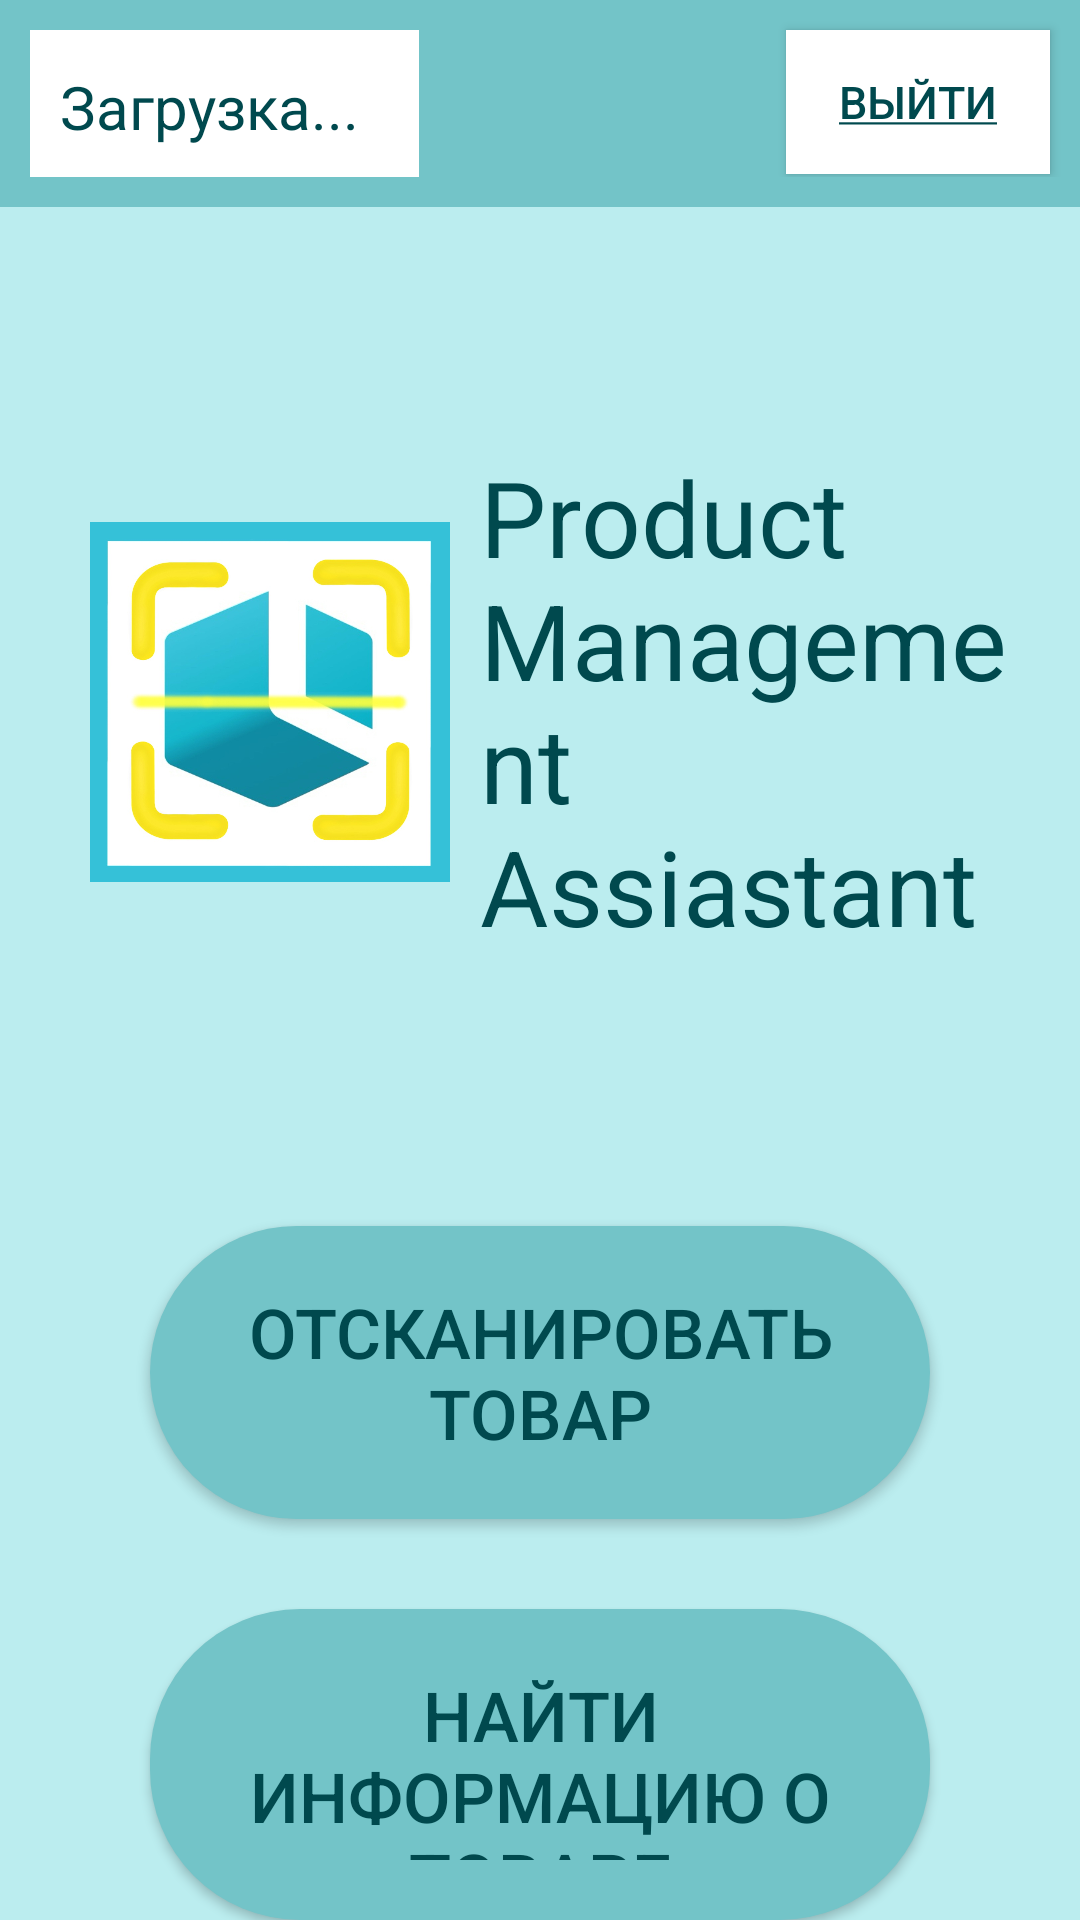

Named icons in this screenshot (1080×1920) and their bounding boxes, bbox(x1, y1, x2, y2):
app: bbox(90, 522, 450, 882)
